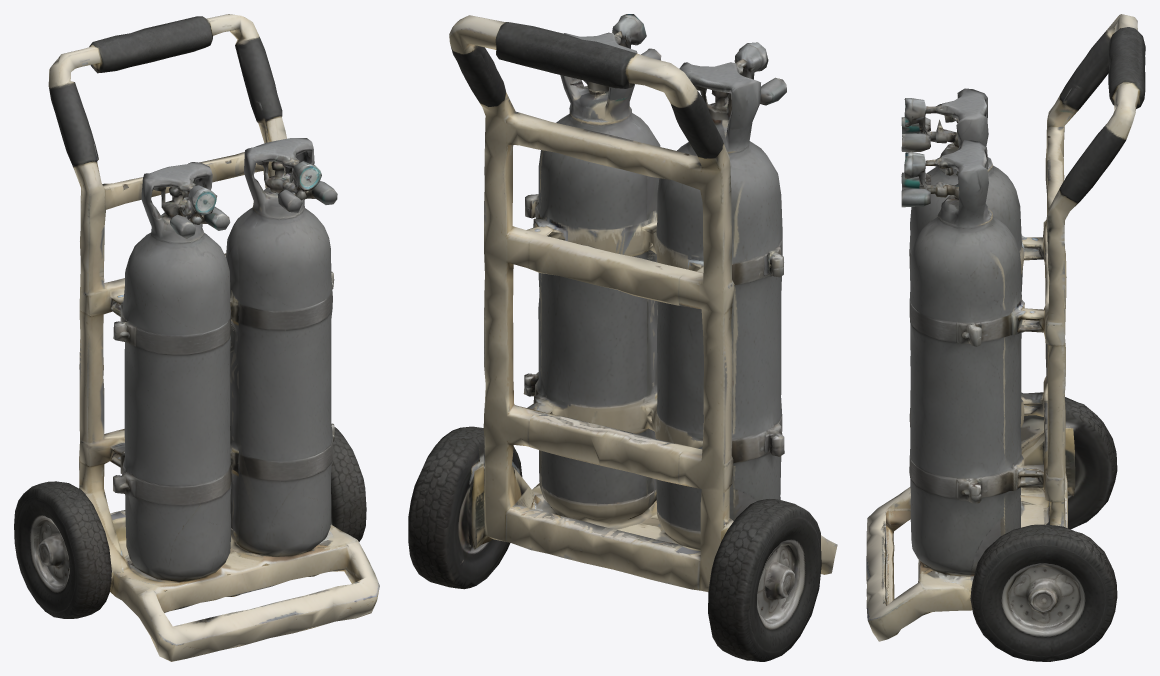
File: CylinderTrolley.glb
The picture shows the model from 3 angles, left to right: view 1: azimuth 30°, elevation 25°; view 2: azimuth 150°, elevation 25°; view 3: azimuth 270°, elevation 25°; orthographic projection. The views are drawn at different scales.
Parts seen in each view (by area): view 1: texture_mapping; view 2: texture_mapping; view 3: texture_mapping.
Part boxes in pixels (x1,y1,x2,y2): texture_mapping: [14, 14, 379, 661]; texture_mapping: [408, 14, 837, 661]; texture_mapping: [866, 14, 1145, 661].
Size of the model in its own units: 0.5939 by 1 by 0.4708.
1 material, 1 textured.
